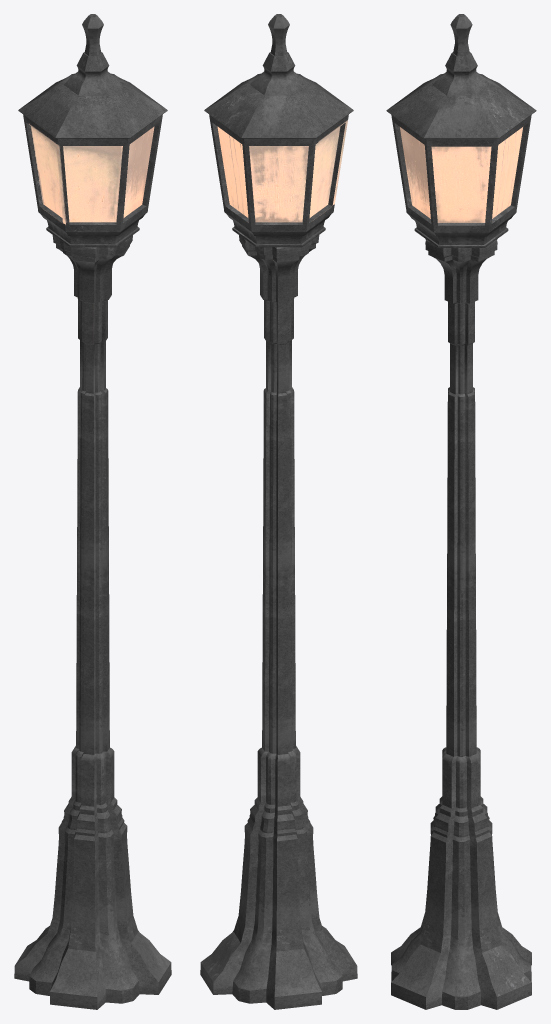
The model's file is street_lantern.glb.
3 views of the same model, side by side, from view 1: azimuth 30°, elevation 25°; view 2: azimuth 150°, elevation 25°; view 3: azimuth 270°, elevation 25° (orthographic).
Visible parts, largest first — view 1: Street-Lantern_0; view 2: Street-Lantern_0; view 3: Street-Lantern_0.
Part boxes in pixels (x1,y1,x2,y2): Street-Lantern_0: (14, 14, 171, 1009); Street-Lantern_0: (200, 14, 357, 1009); Street-Lantern_0: (386, 14, 536, 1009).
Size of the model in its own units: 0.5376 by 4.06 by 0.573.
1 material, 1 textured.
